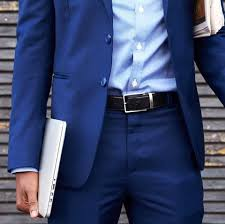F_M_suit jacket: (3, 1, 225, 176)
F_belt: (95, 82, 199, 121)
F_dress pants: (45, 107, 209, 224)
